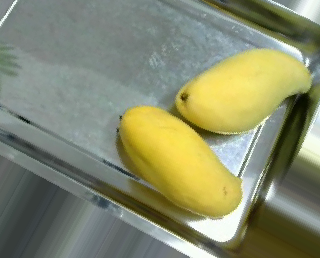Mango: (116, 103, 244, 225), (171, 42, 314, 143)
